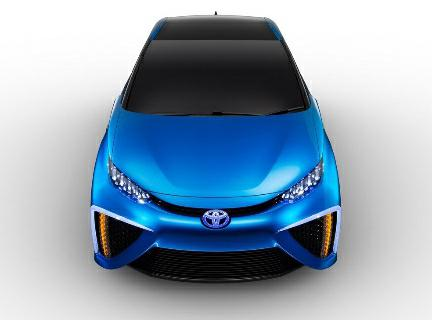丰田-FCV: (86, 10, 352, 284)
